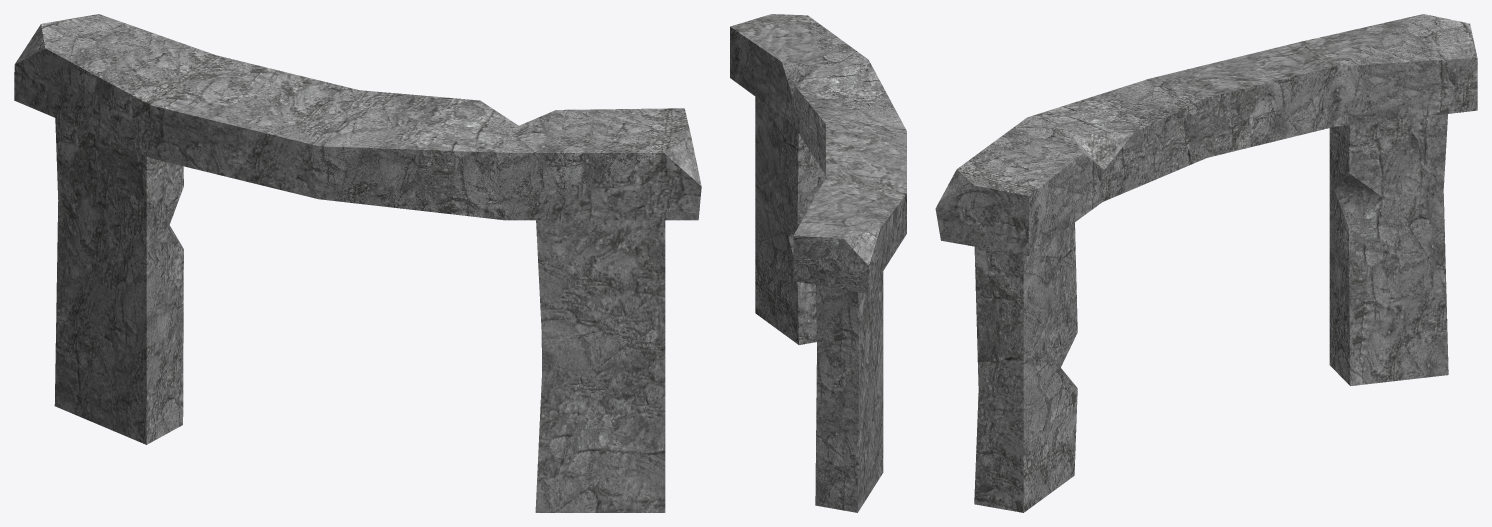
The model's file is materials_3_handrail_4.fbx.
3 renders of one model, left to right at view 1: azimuth 30°, elevation 25°; view 2: azimuth 150°, elevation 25°; view 3: azimuth 270°, elevation 25°, orthographic. The views are drawn at different scales.
Parts seen in each view (by area): view 1: materials_3_handrail_4; view 2: materials_3_handrail_4; view 3: materials_3_handrail_4.
Boxes of the visible parts, bbox=[...] form: materials_3_handrail_4: bbox=[14, 14, 701, 512]; materials_3_handrail_4: bbox=[730, 14, 906, 512]; materials_3_handrail_4: bbox=[935, 14, 1477, 512].
Bounding box in the file's own units: 180 × 150 × 223.
